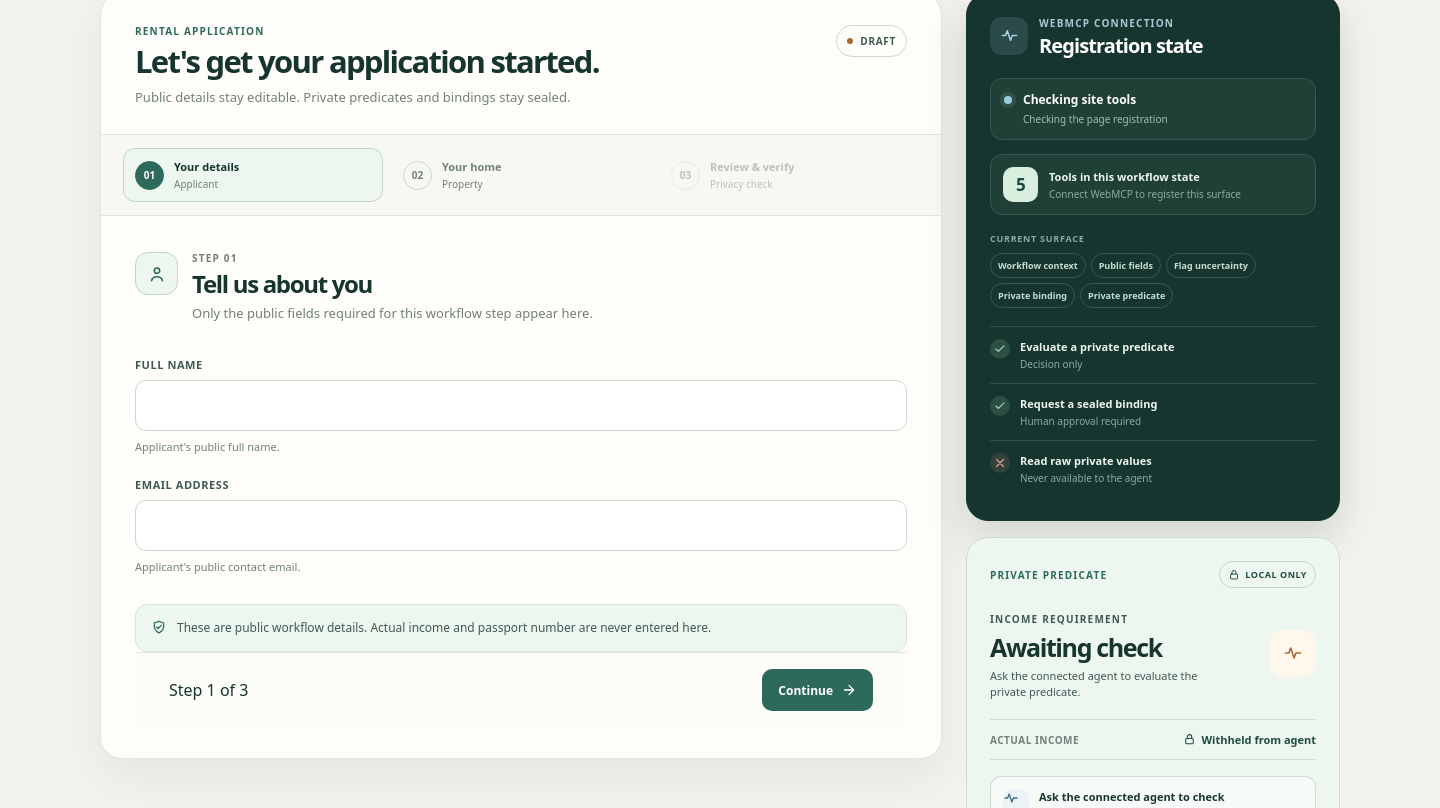
Test: sealed application UI and native registration › keeps the three-step wizard public-only and makes private actions agent-first
The image size is (1440, 808).
(page scrolled)
Check: the heading "Tell us about you" is shown, box [192,267,372,300]
Check: the text "Ask the connected agent to check" is shown, box [1039,789,1224,804]
Type "Aylin Mammadova" into the field labelled "Full name". click: (521, 406)
box: [135,380,907,431]
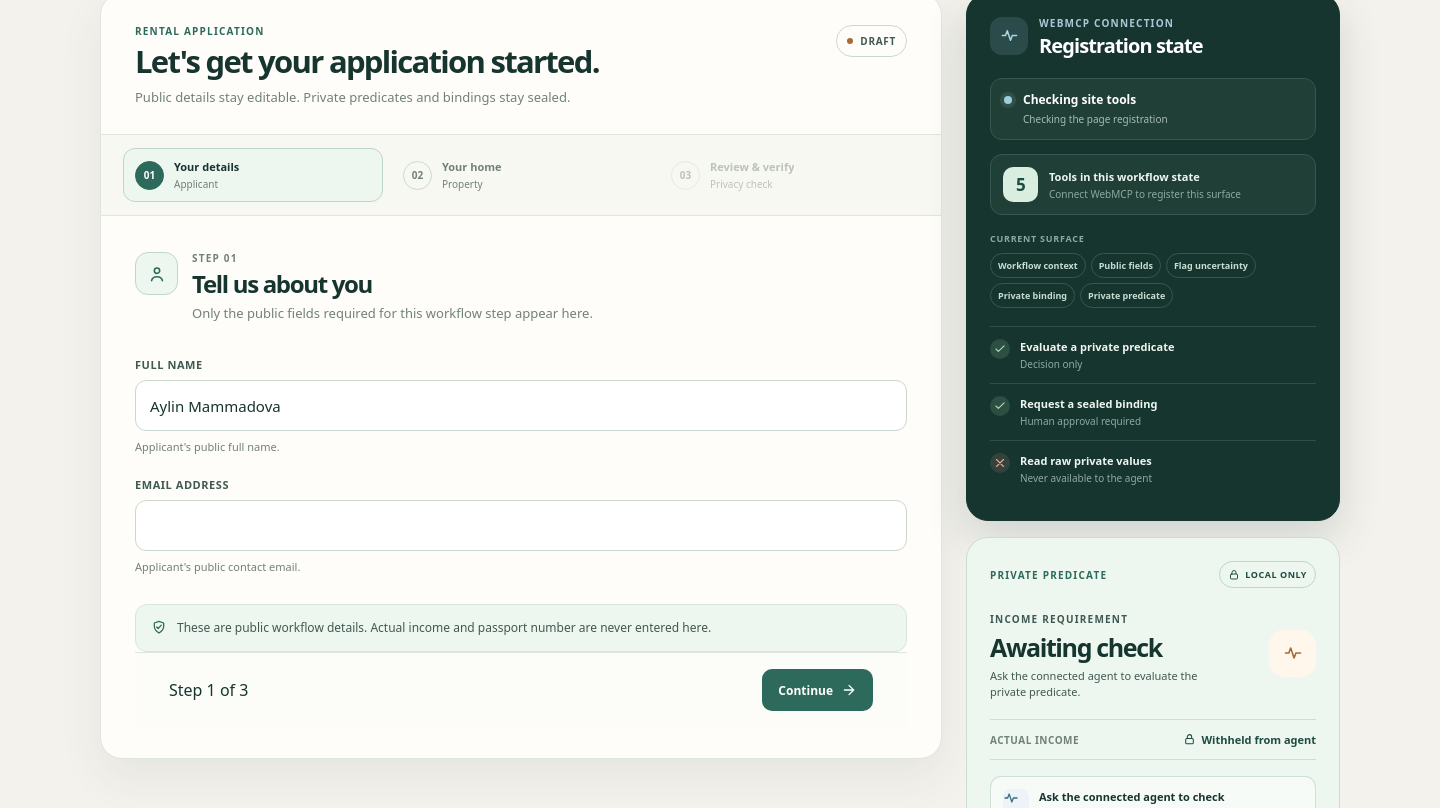
Type "aylin@example.com" into the field labelled "Email address Applicant's public contact email.". click: (521, 525)
box: [135,500,907,551]
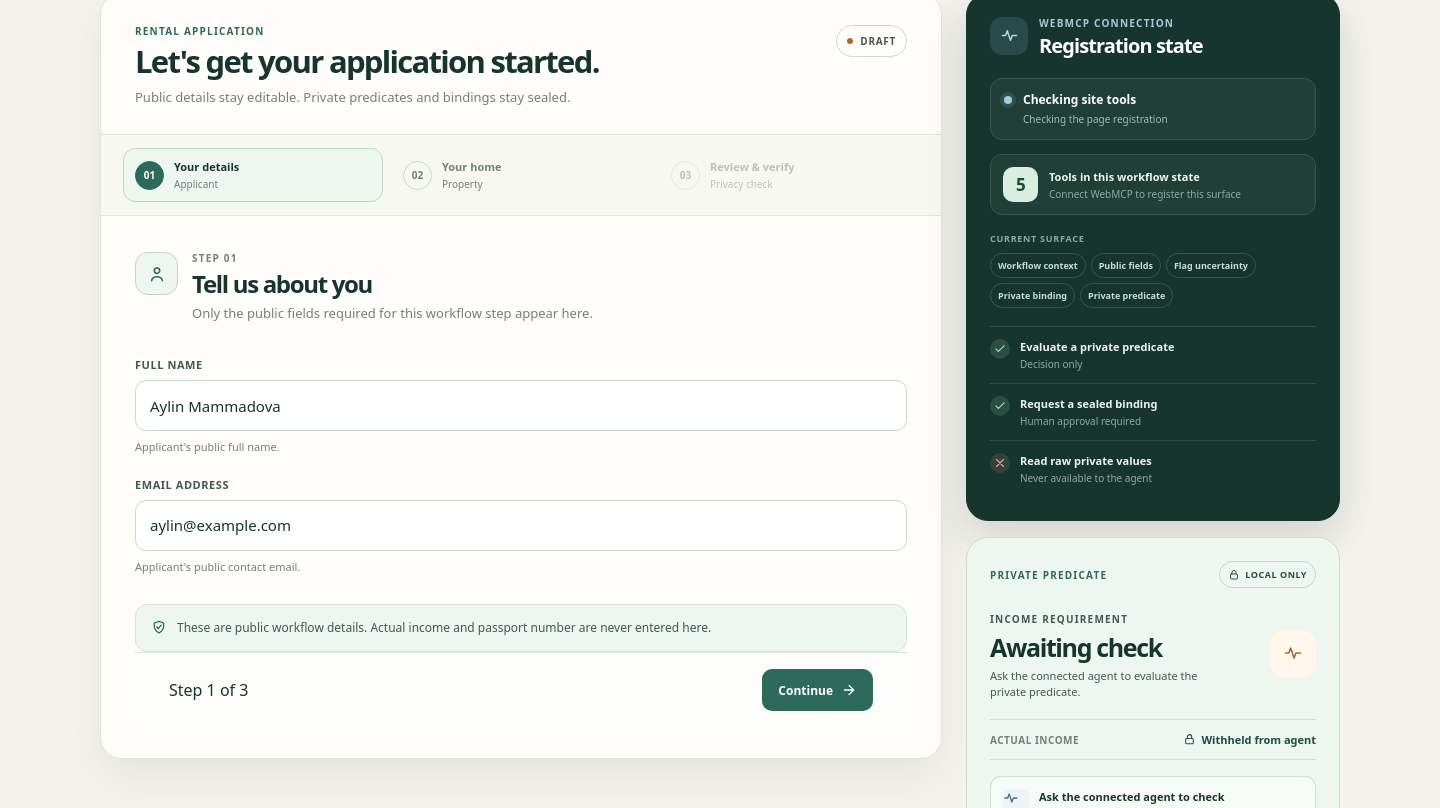
Click the button "Continue". click: (818, 690)
box: [762,669,873,711]
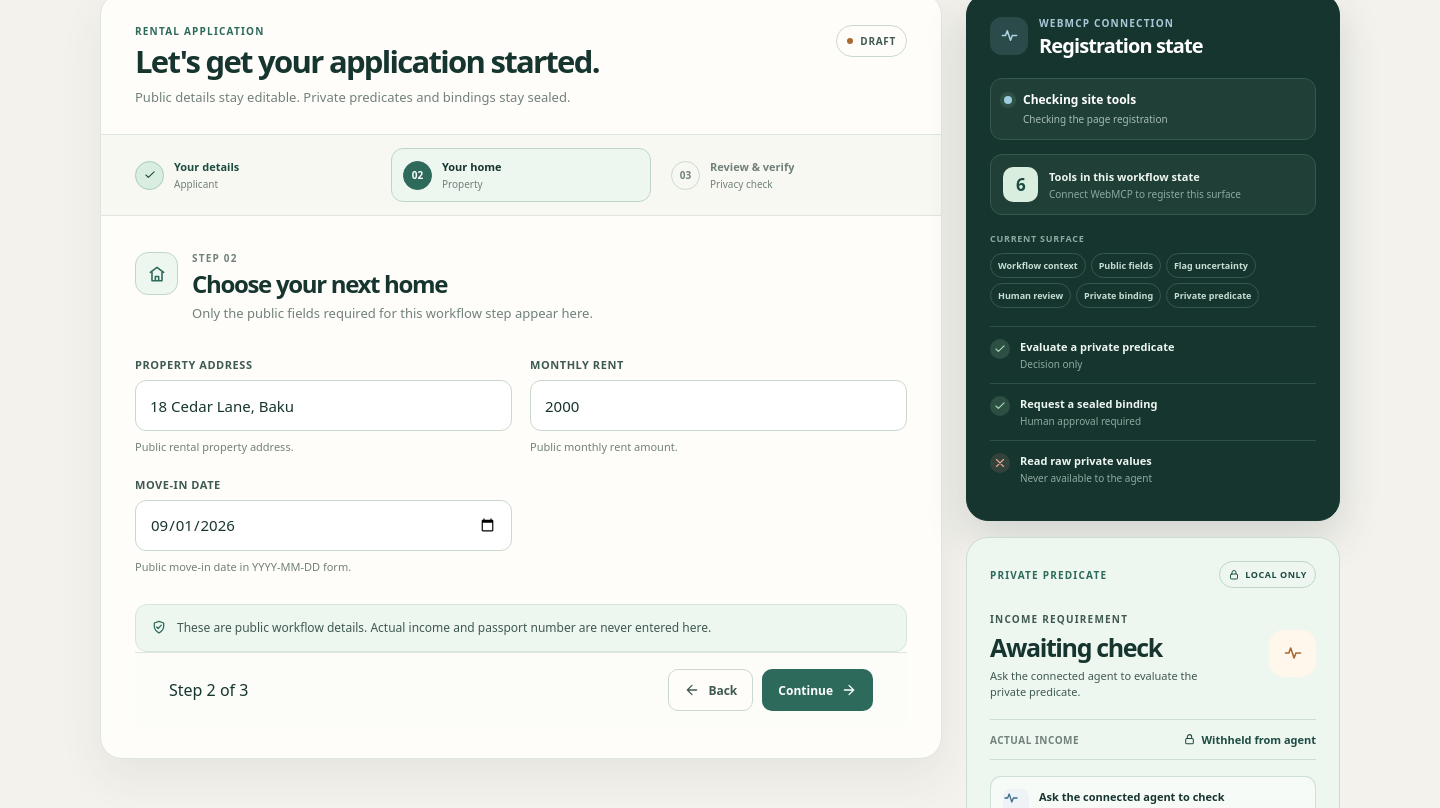
Click the button "Continue". click: (818, 690)
box: [762,669,873,711]
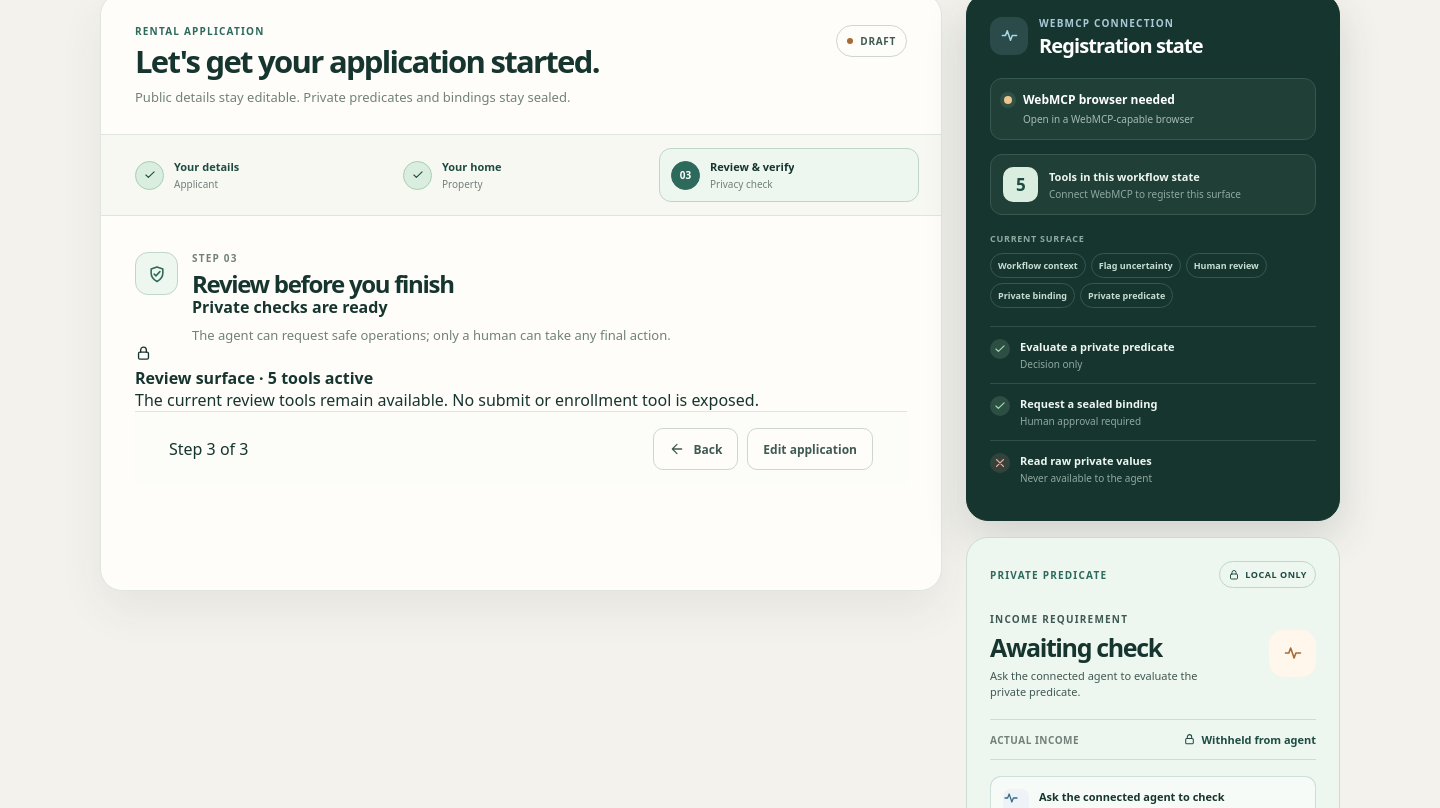
Check: the heading "Review before you finish" is shown, box [192,267,454,300]
Check: the text "Private checks are ready" is shown, box [192,296,388,318]
